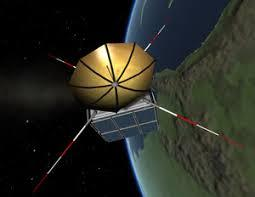antenna: (65, 39, 160, 114), (32, 111, 97, 194), (142, 97, 243, 148), (143, 22, 169, 52), (45, 51, 77, 70)
body: (85, 91, 169, 145)
solar: (90, 106, 160, 144)
